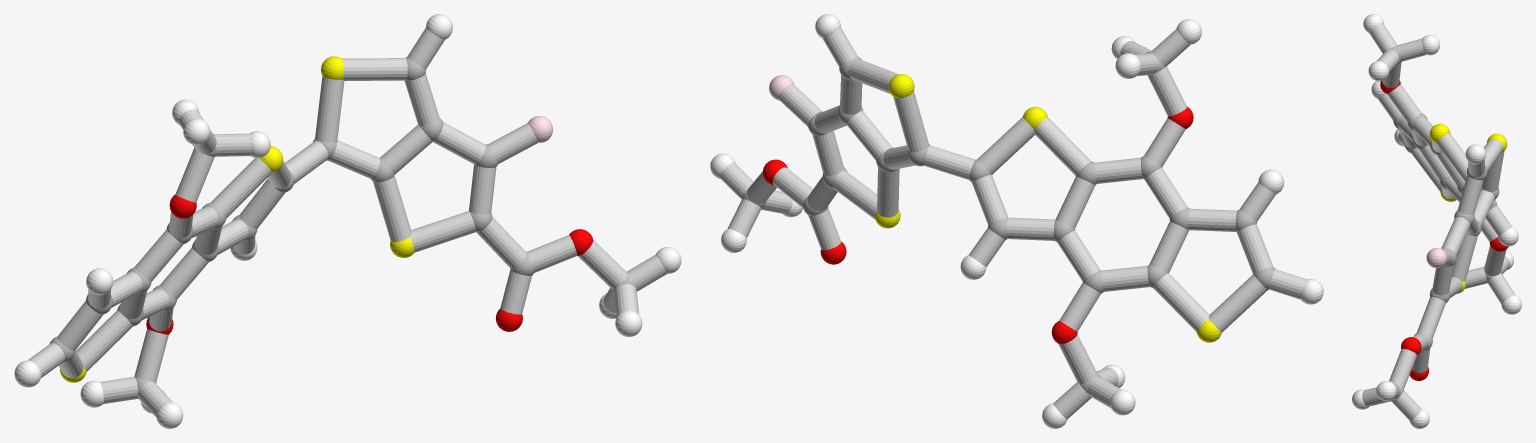
The model's file is Dimethoxy_Benzodithiophene_Phi_30_Theta_130_Methylcarbonyl_3_Fluoro_Thienothiophene.glb.
3 views of the same model, side by side, from view 1: azimuth 30°, elevation 25°; view 2: azimuth 150°, elevation 25°; view 3: azimuth 270°, elevation 25° (orthographic). The views are drawn at different scales.
Visible parts, largest first — view 1: grp15205, grp8689, grp1, grp13395, grp7241; view 2: grp15205, grp8689, grp1, grp7241, grp13395; view 3: grp15205, grp8689, grp1, grp13395, grp7241, grp14843.
Part boxes in pixels (x1=…): grp15205: x1=28, y1=28, x2=667, y2=416; grp8689: x1=14, y1=14, x2=681, y2=428; grp1: x1=49, y1=57, x2=636, y2=399; grp13395: x1=146, y1=194, x2=593, y2=334; grp7241: x1=60, y1=56, x2=414, y2=382; grp15205: x1=720, y1=28, x2=1306, y2=419; grp8689: x1=710, y1=14, x2=1323, y2=428; grp1: x1=742, y1=51, x2=1275, y2=392; grp7241: x1=875, y1=74, x2=1221, y2=342; grp13395: x1=762, y1=106, x2=1193, y2=344; grp15205: x1=1362, y1=24, x2=1515, y2=420; grp8689: x1=1352, y1=14, x2=1521, y2=428; grp1: x1=1389, y1=46, x2=1501, y2=401; grp13395: x1=1380, y1=80, x2=1508, y2=380; grp7241: x1=1429, y1=123, x2=1507, y2=293; grp14843: x1=1426, y1=248, x2=1446, y2=268.
Bounding box in the file's own units: 16.56 × 9.04 × 4.96.
